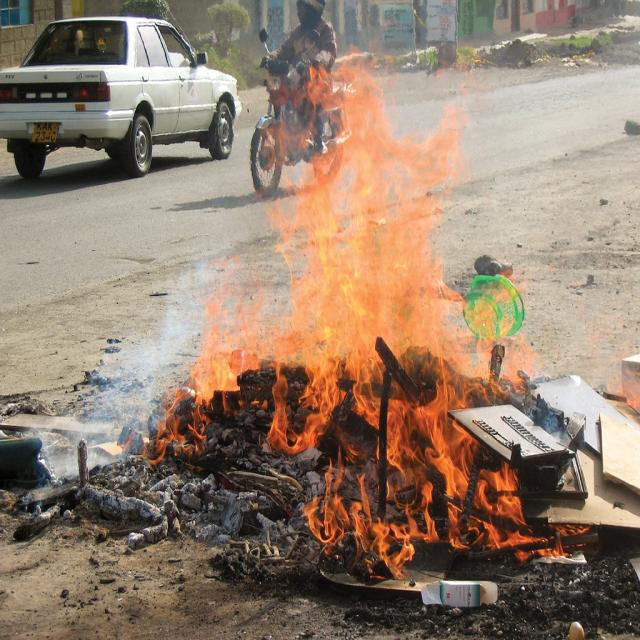fire: (275, 75, 458, 443), (310, 460, 556, 571), (197, 278, 258, 401)
